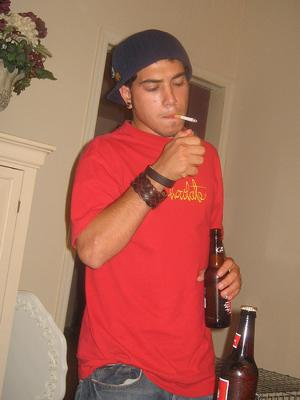person: (67, 29, 244, 398)
